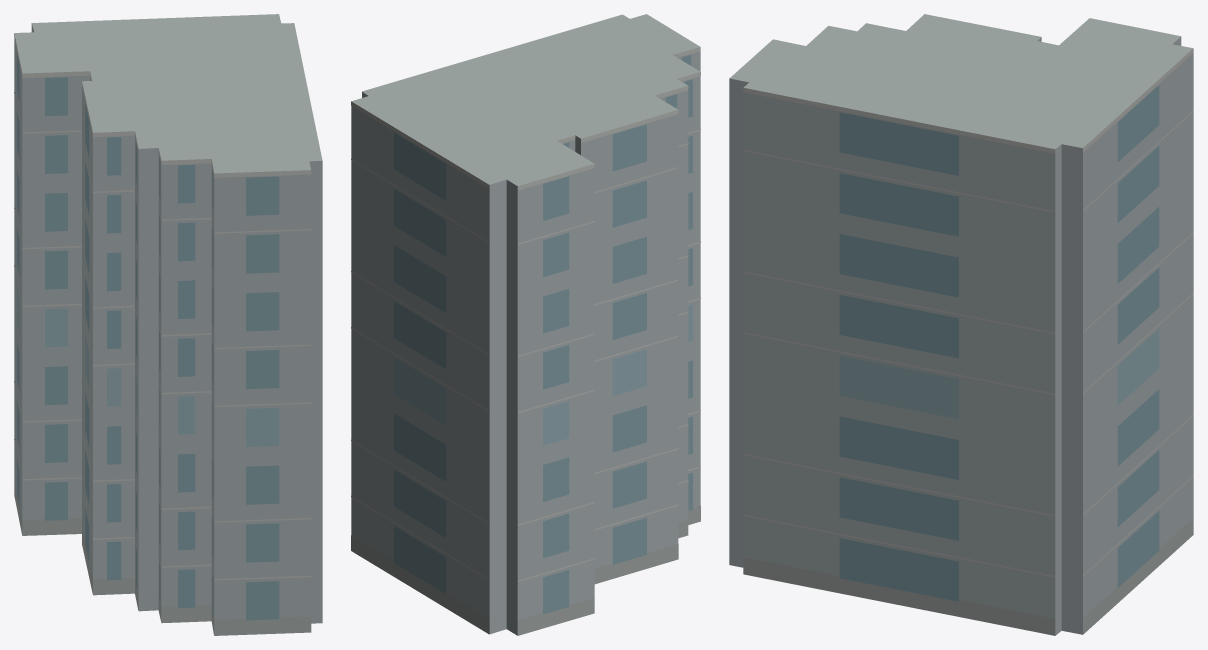
File: survey-upis-32545220.glb
3 views of the same model, side by side, from view 1: azimuth 30°, elevation 25°; view 2: azimuth 150°, elevation 25°; view 3: azimuth 270°, elevation 25° (orthographic). The views are drawn at different scales.
Visible parts, largest first — view 1: survey-upis-32545220.tmp; view 2: survey-upis-32545220.tmp; view 3: survey-upis-32545220.tmp.
Part boxes in pixels (x1=…): survey-upis-32545220.tmp: x1=14, y1=14, x2=322, y2=635; survey-upis-32545220.tmp: x1=351, y1=14, x2=700, y2=635; survey-upis-32545220.tmp: x1=729, y1=14, x2=1193, y2=635.
Bounding box in the file's own units: 15.29 × 25.6 × 22.15.
